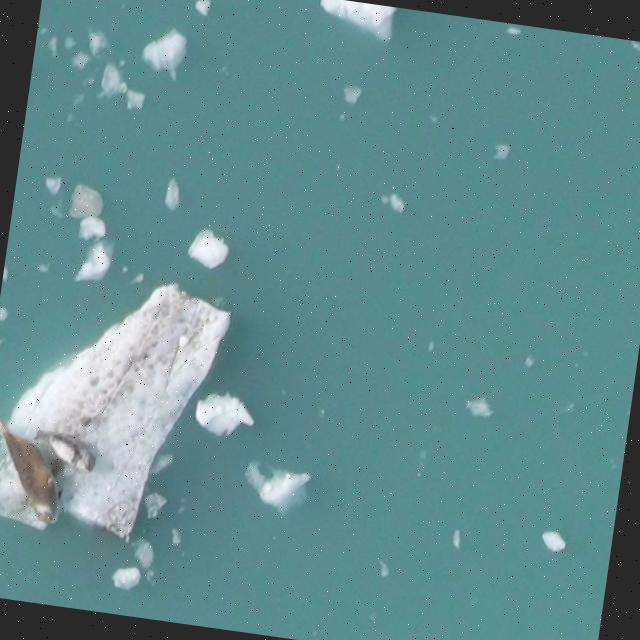seal: (0, 406, 71, 530), (33, 422, 100, 477)
